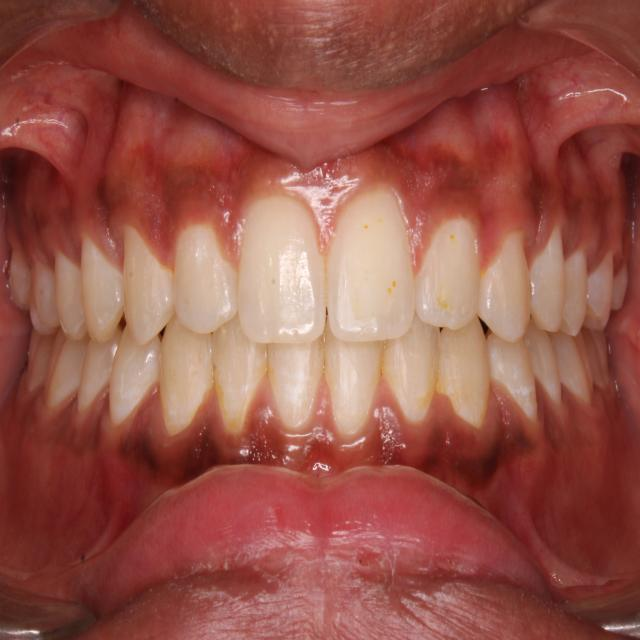tooth: (316, 200, 432, 358), (234, 189, 330, 357), (482, 238, 542, 371), (419, 217, 482, 332), (177, 220, 235, 342), (443, 339, 498, 456), (80, 230, 128, 358), (127, 223, 175, 341), (390, 349, 448, 443), (216, 338, 262, 435), (330, 339, 377, 426), (172, 335, 214, 429), (270, 345, 323, 419), (534, 232, 566, 330), (118, 342, 162, 412), (85, 336, 128, 402), (52, 247, 82, 331), (563, 244, 590, 334), (502, 339, 534, 414), (32, 253, 58, 324)
